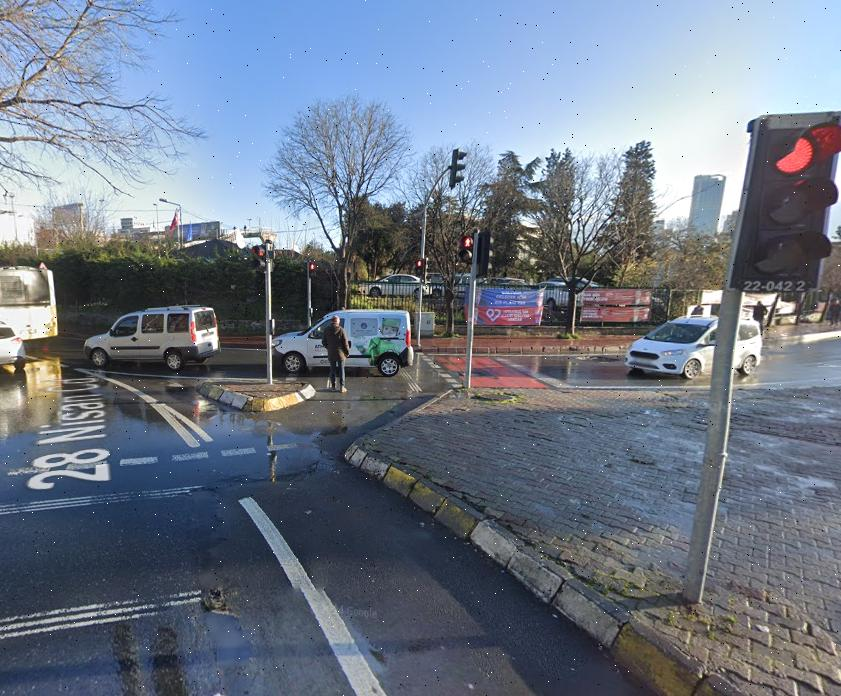redlight: (756, 116, 829, 277)
